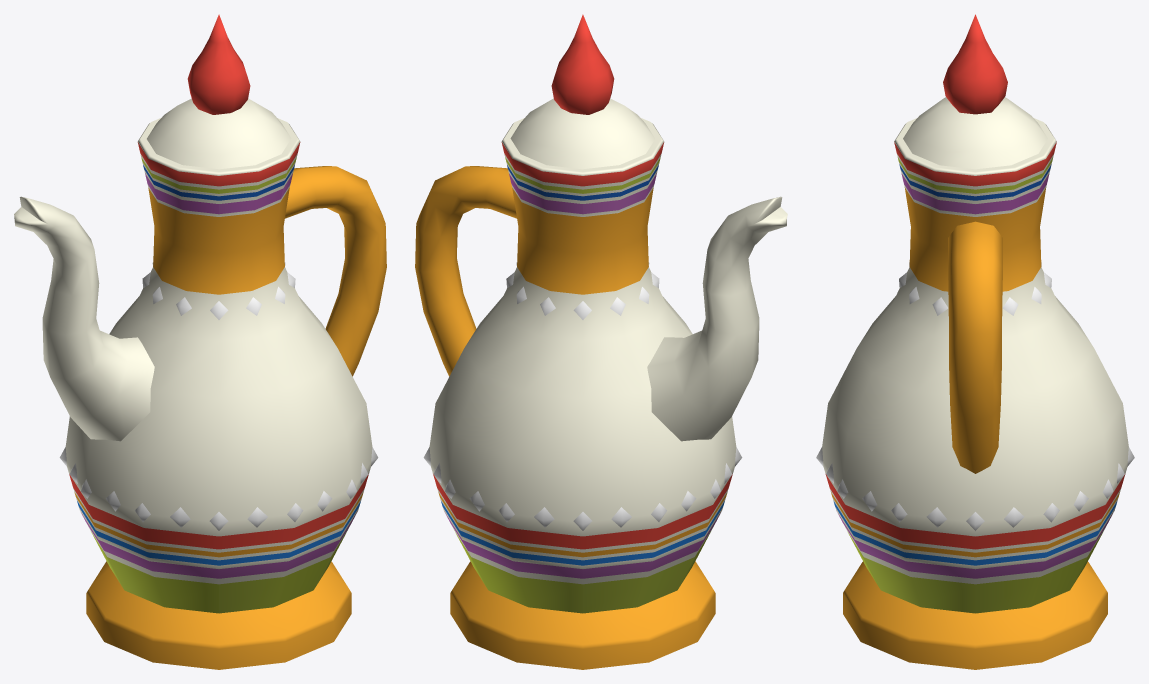
File: attraction_5_002.gltf
The picture shows the model from 3 angles, left to right: view 1: azimuth 30°, elevation 25°; view 2: azimuth 150°, elevation 25°; view 3: azimuth 270°, elevation 25°; orthographic projection.
Visible parts, largest first — view 1: attraction_5_002; view 2: attraction_5_002; view 3: attraction_5_002.
Part boxes in pixels (x1,y1,x2,y2): attraction_5_002: [14, 14, 386, 669]; attraction_5_002: [415, 14, 787, 669]; attraction_5_002: [816, 14, 1134, 669].
Size of the model in its own units: 3.78 by 5.89 by 2.83.
2 materials, 1 textured.
